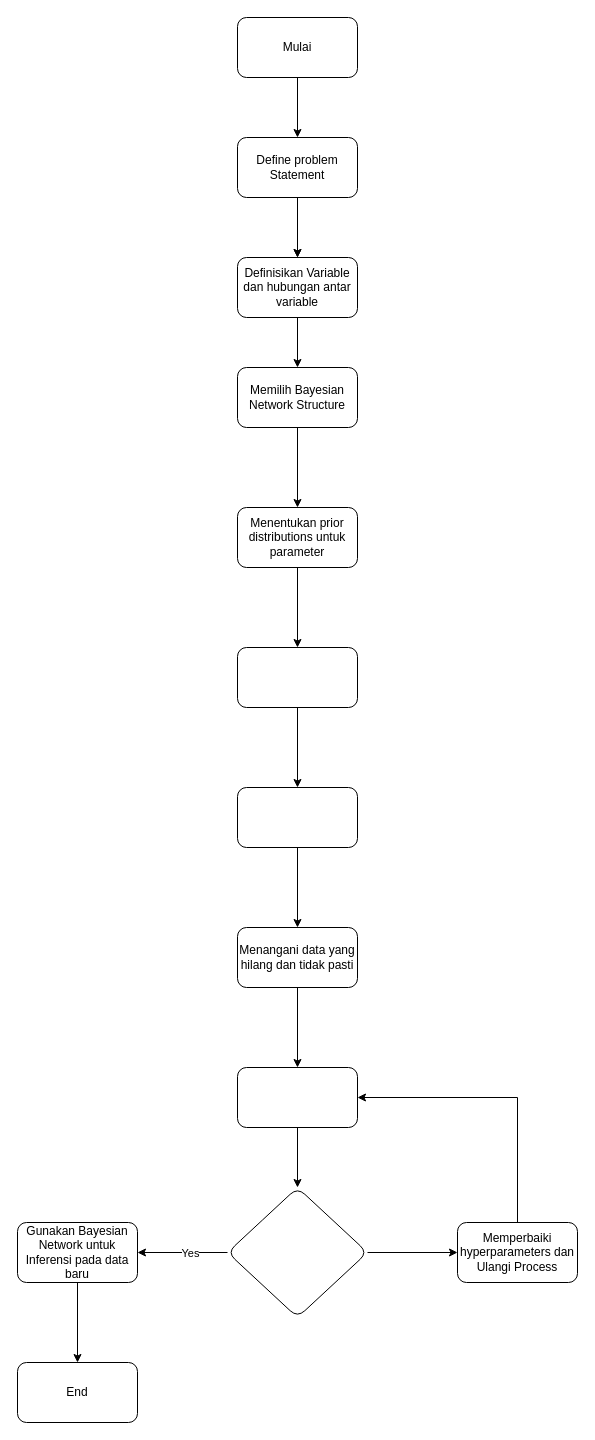
The diagram is 595 pixels wide and 1440 high, and some of its shapes have lost their labels. The shapes that lost their labels are listed below. From the top down, each one's box as (x1, y1, x2, y2) in pixels, then its label:
(236, 646, 358, 708): Memilih prior distribution atas parameter prior
(236, 786, 358, 848): Memilih metode Estimasi parameter dalam model
(236, 1066, 358, 1128): Evaluasi Kinerja Model
(226, 1186, 368, 1318): Kinerja Model diterima
